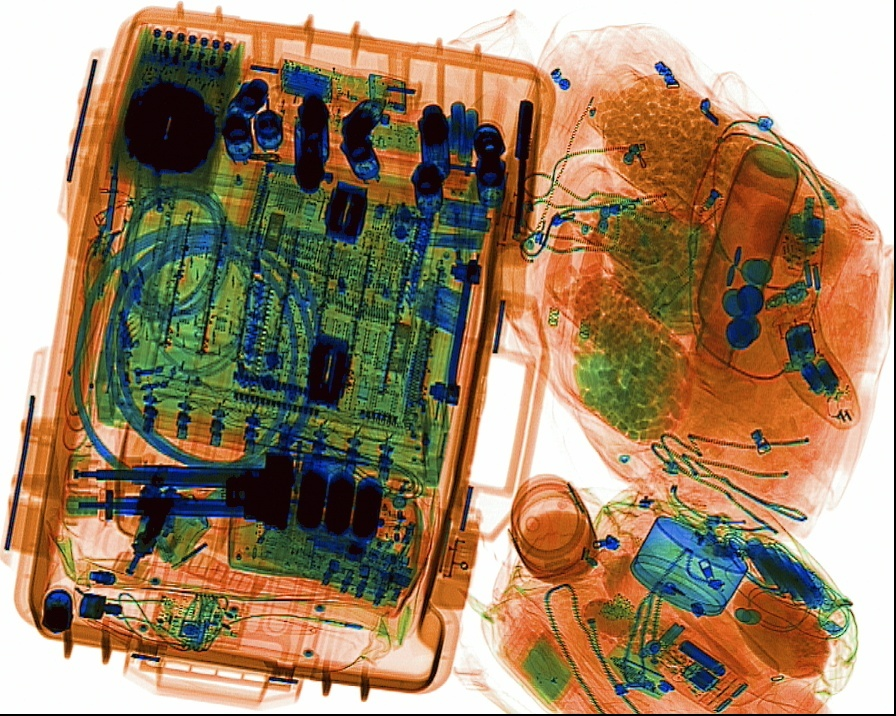powerbank: (739, 534, 835, 612)
